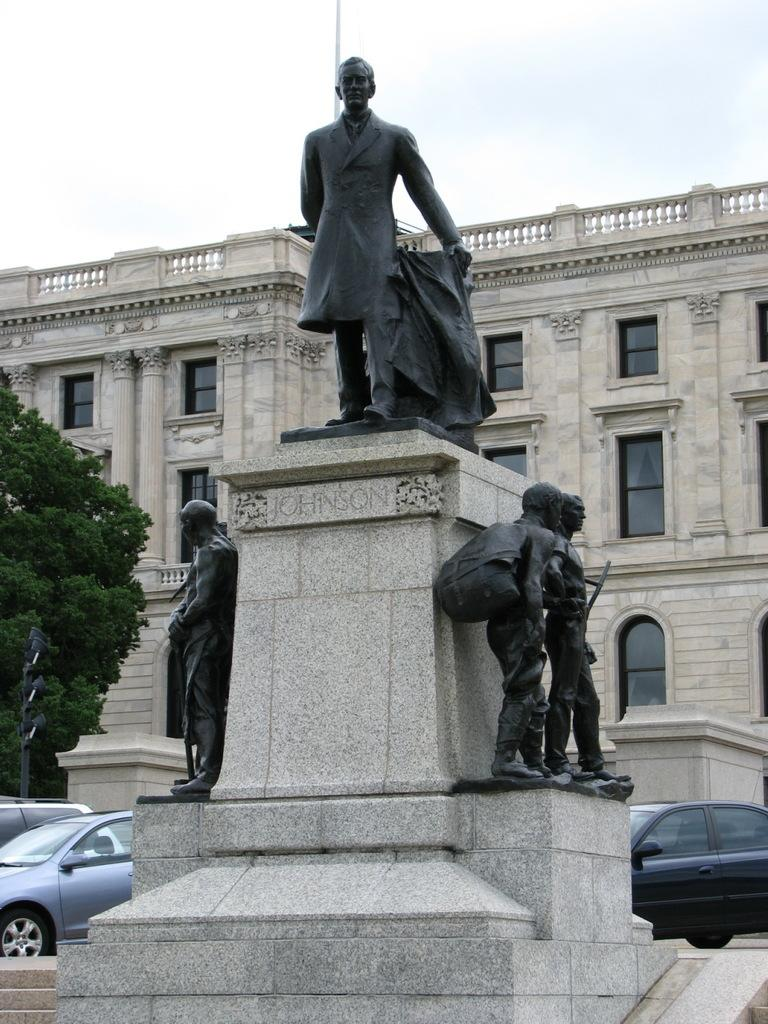Car: (631, 772, 767, 950), (0, 807, 134, 957), (0, 794, 125, 862)
